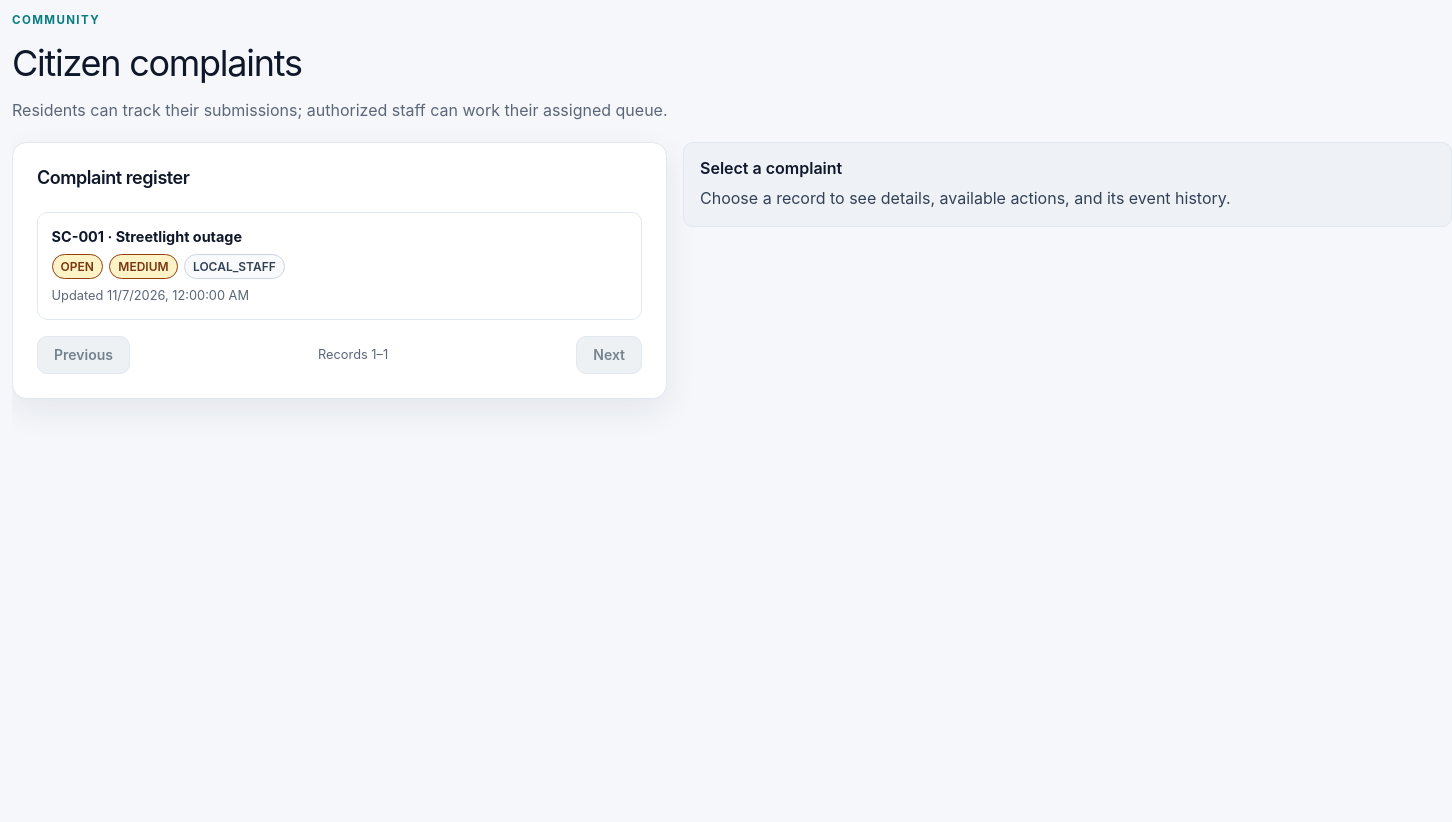
Test: ComplaintsPage workflow actions › uses safe labels when optional display values are unavailable
The width and height of the screenshot is (1452, 822).
Click the button "SC-001": {"x": 78, "y": 236} [37,212,642,320]
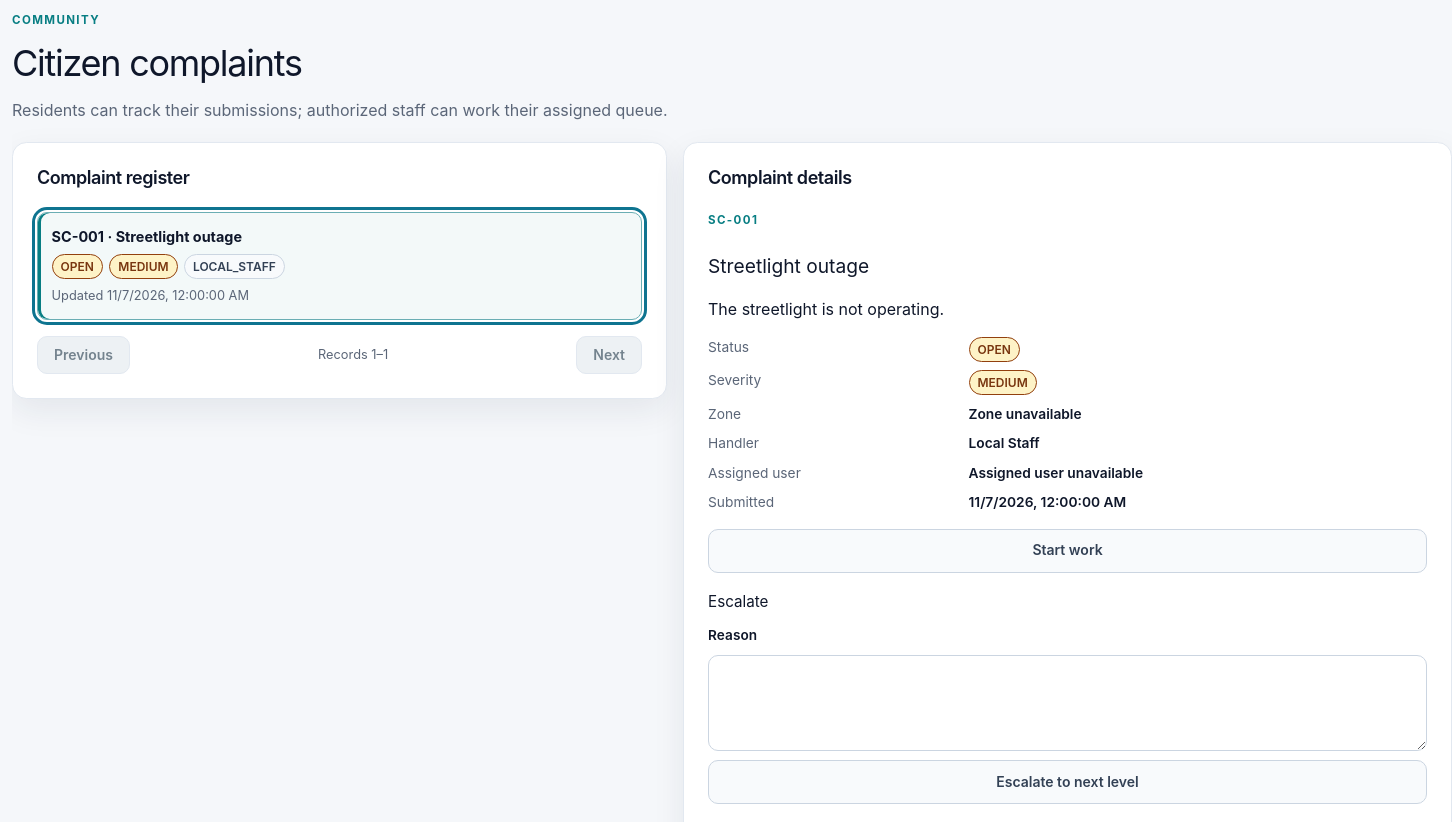
Now the text "Zone unavailable" is shown, box [968,406,1082,422]
Now the text "Assigned user unavailable" is shown, box [968,465,1143,481]
